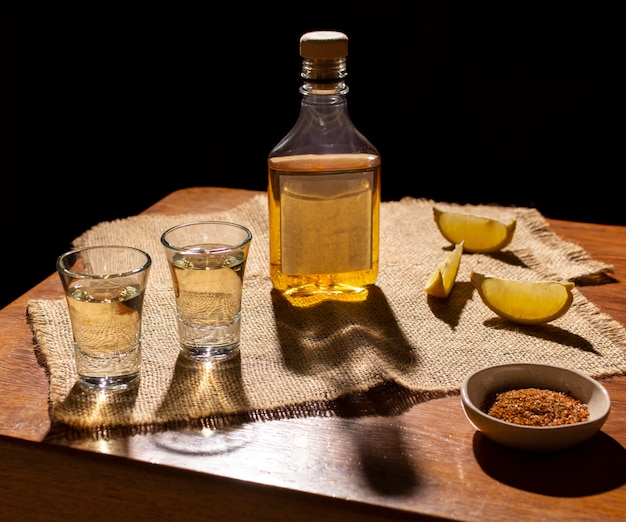alcohol: (264, 30, 383, 303), (159, 215, 255, 365), (57, 246, 154, 392)
